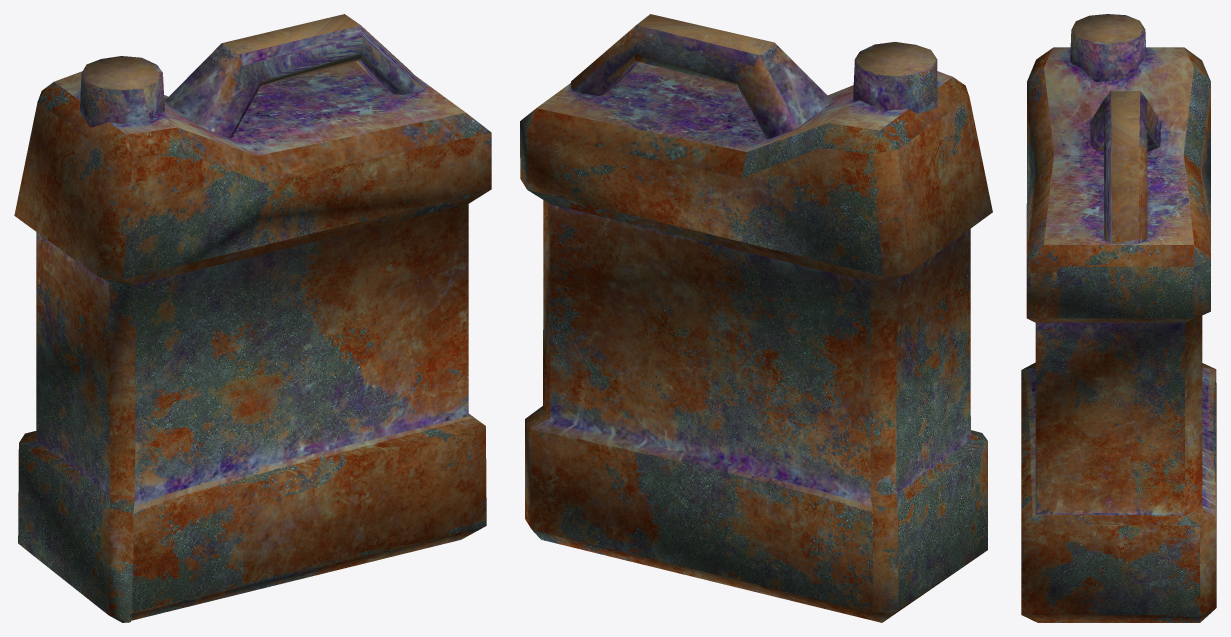
The model's file is Gas_Can_3.fbx.
3 renders of one model, left to right at view 1: azimuth 30°, elevation 25°; view 2: azimuth 150°, elevation 25°; view 3: azimuth 270°, elevation 25°, orthographic. The views are drawn at different scales.
Parts seen in each view (by area): view 1: 3Gas_Can_LOD0; view 2: 3Gas_Can_LOD0; view 3: 3Gas_Can_LOD0.
Boxes of the visible parts, left/top/right/bottom form: 3Gas_Can_LOD0: left=14, top=14, right=491, bottom=622; 3Gas_Can_LOD0: left=520, top=14, right=992, bottom=622; 3Gas_Can_LOD0: left=1021, top=14, right=1216, bottom=622.
Size of what is drawn, in the model's own units: 78.61 by 99.85 by 38.31.
